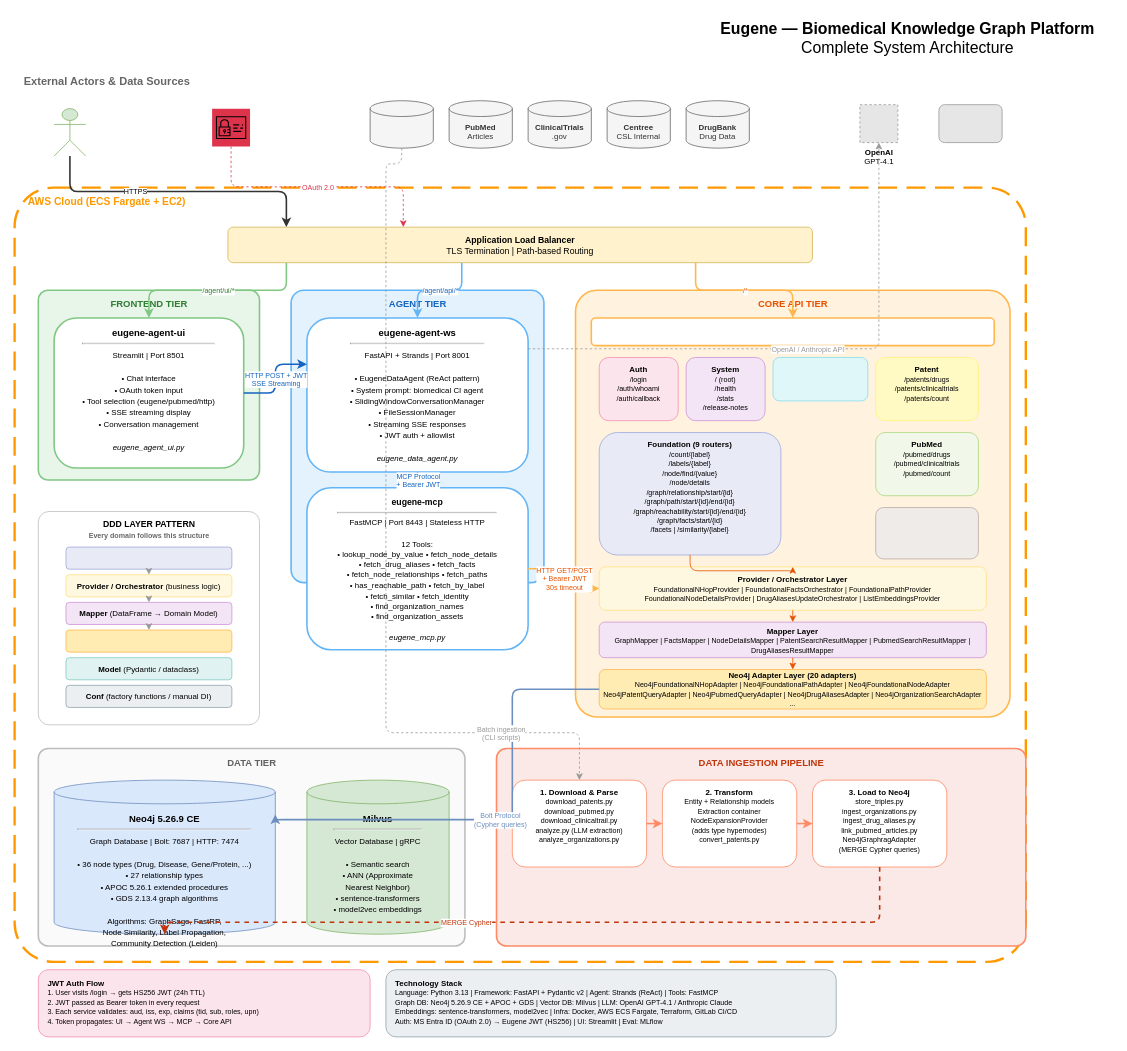
Image size: 1127x1051. Some labels were removed from this diagram. Grey dashed boxes stand in for pictures. The box of each missing label's shape, as (x1, y1, x2, y2) in pixels:
Adapter (Cypher queries → Neo4j): (65, 629, 232, 652)
Anthropic Claude: (938, 104, 1002, 143)
CSL Researcher Asks questions, browses data: (53, 108, 86, 156)
Drug /drugs/aliases/{name}: (772, 357, 868, 401)
eugene_ws FastAPI | Port 8000 | 20 Routers: (590, 317, 995, 346)
Microsoft Entra ID OAuth 2.0 SSO (CSL Identity): (212, 108, 250, 146)
Organization /organizations/{name} /organizations/assets/{id}: (875, 507, 978, 559)
Router (FastAPI endpoint): (65, 546, 232, 569)
USPTO Patents: (369, 100, 433, 148)
